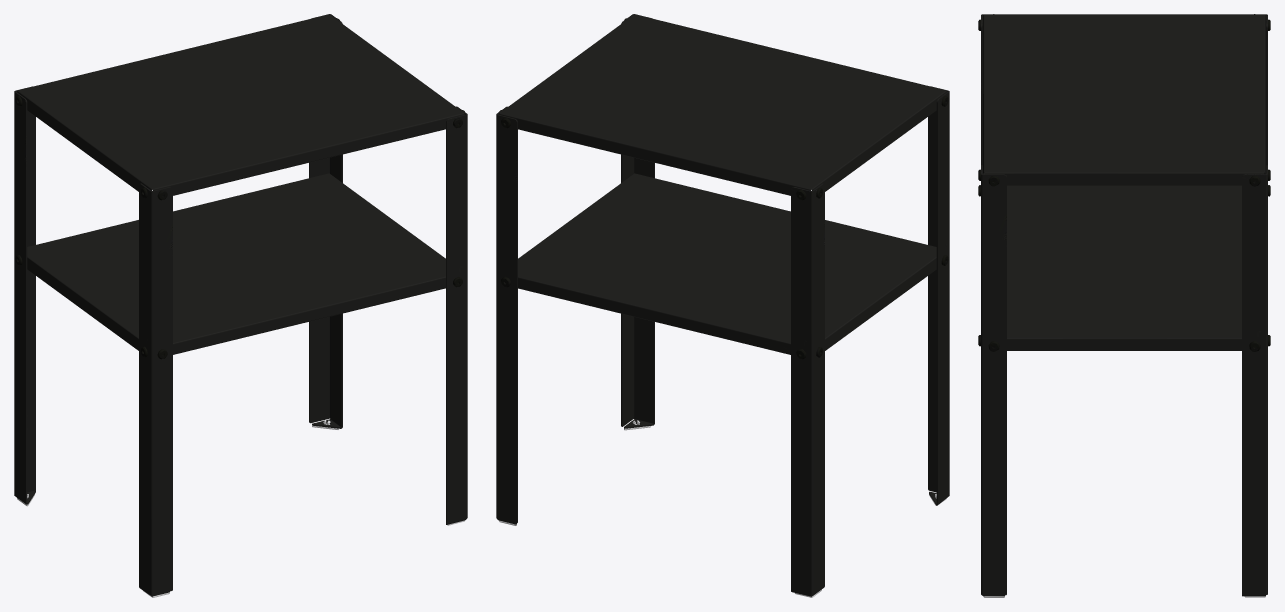
Rendered from knarrevik_stolik_nocny_00576318.glb.
3 renders of one model, left to right at view 1: azimuth 30°, elevation 25°; view 2: azimuth 150°, elevation 25°; view 3: azimuth 270°, elevation 25°, orthographic. The views are drawn at different scales.
Parts seen in each view (by area): view 1: knarrevik_stolik_nocny_00576318; view 2: knarrevik_stolik_nocny_00576318; view 3: knarrevik_stolik_nocny_00576318.
Boxes of the visible parts, bbox=[...] form: knarrevik_stolik_nocny_00576318: bbox=[14, 14, 467, 597]; knarrevik_stolik_nocny_00576318: bbox=[496, 14, 949, 597]; knarrevik_stolik_nocny_00576318: bbox=[978, 14, 1270, 597].
Size of the model in its own units: 0.37 by 0.45 by 0.28.
2 materials, 2 textured.
